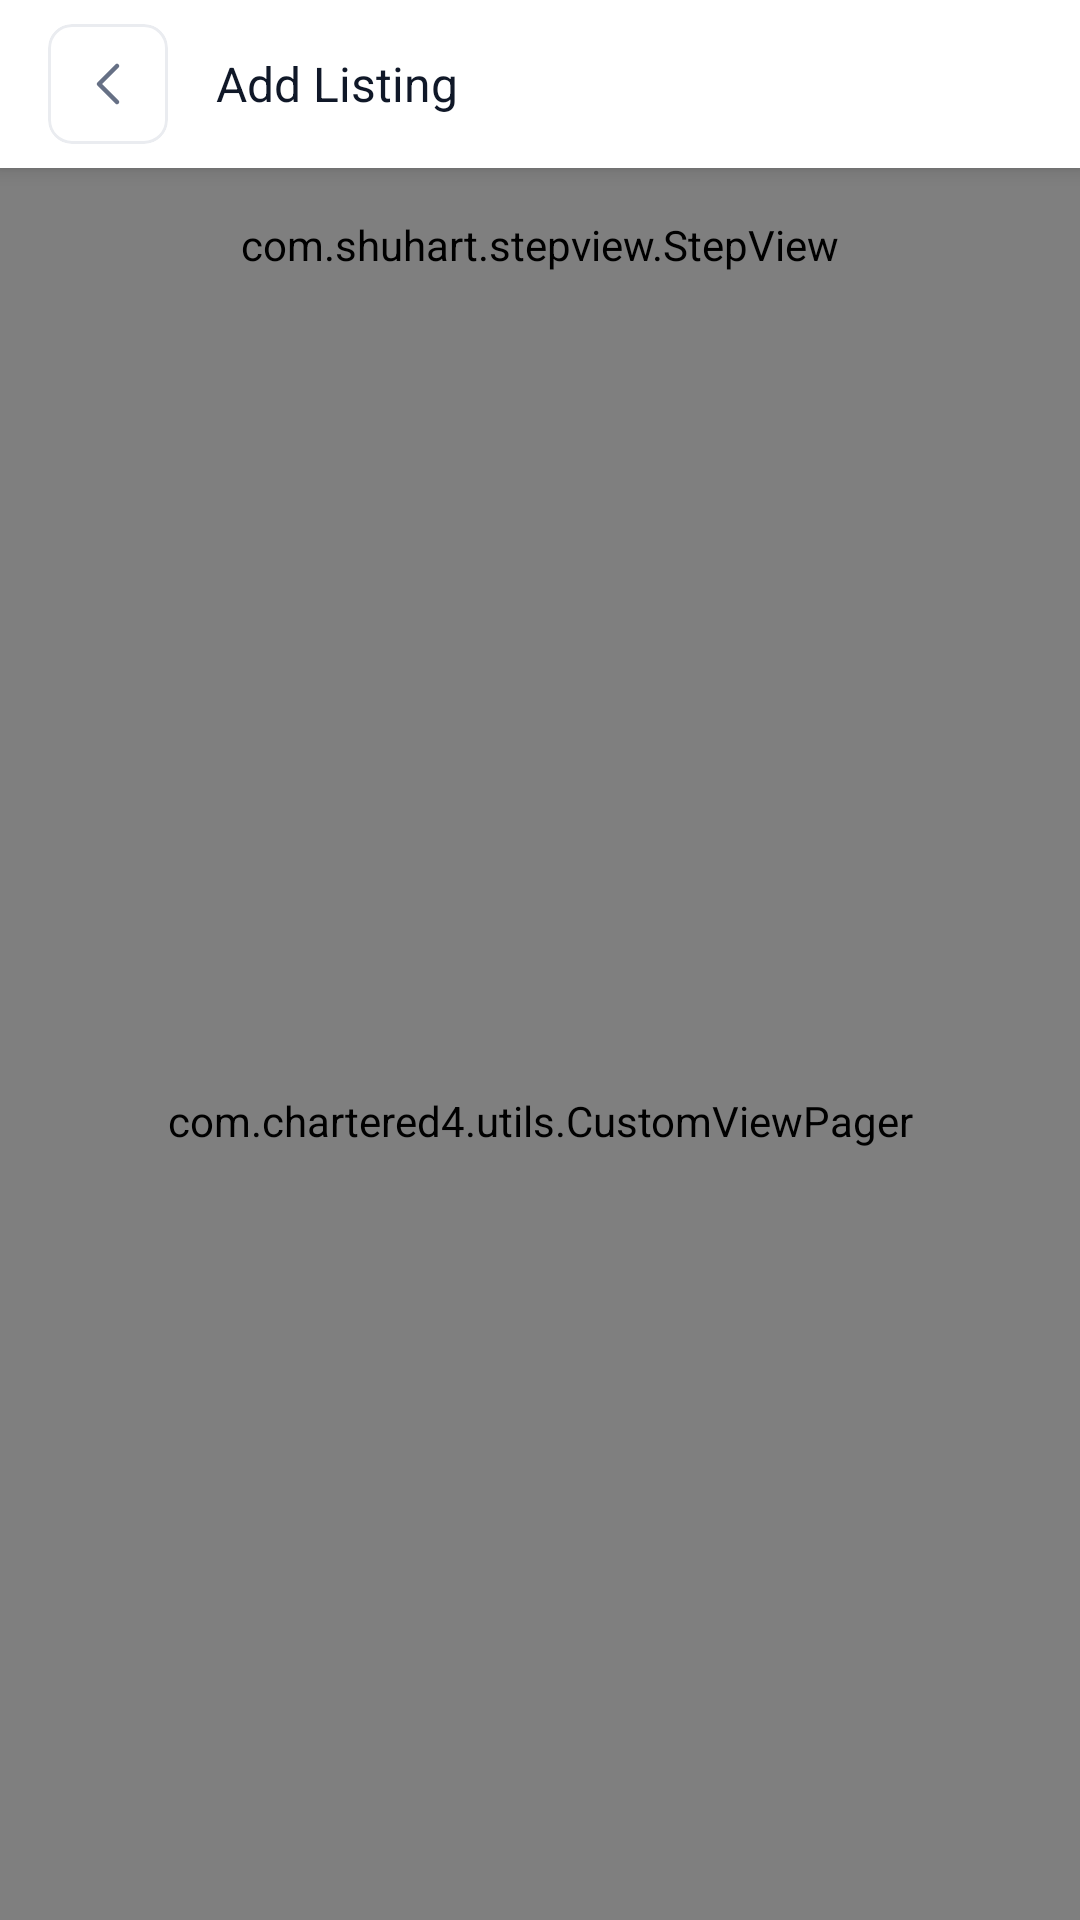

Icon bounding boxes for this 1080x1920 phone screenshot, format Rect(x1, y1, x2, y2):
back: Rect(97, 63, 119, 105)
